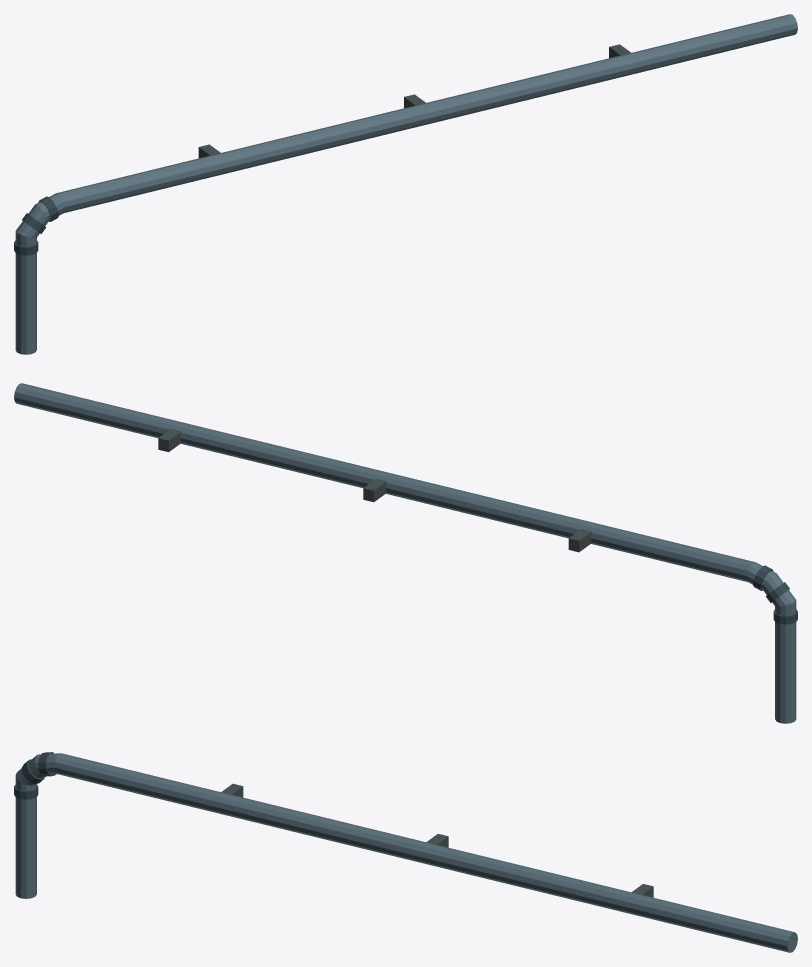
The model's file is WaterworksLower_HighPipe.fbx.
3 views of the same model, one above another, from view 1: azimuth 30°, elevation 25°; view 2: azimuth 150°, elevation 25°; view 3: azimuth 330°, elevation 25° (orthographic).
Visible parts, largest first — view 1: WaterworksLower_HighPipe; view 2: WaterworksLower_HighPipe; view 3: WaterworksLower_HighPipe.
Boxes of the visible parts, box(x1,y1,x2,y2) form: WaterworksLower_HighPipe: box(14, 14, 797, 354); WaterworksLower_HighPipe: box(14, 383, 797, 723); WaterworksLower_HighPipe: box(14, 752, 797, 952).
Bounding box in the file's own units: 7.85 × 1.43 × 0.4045.
